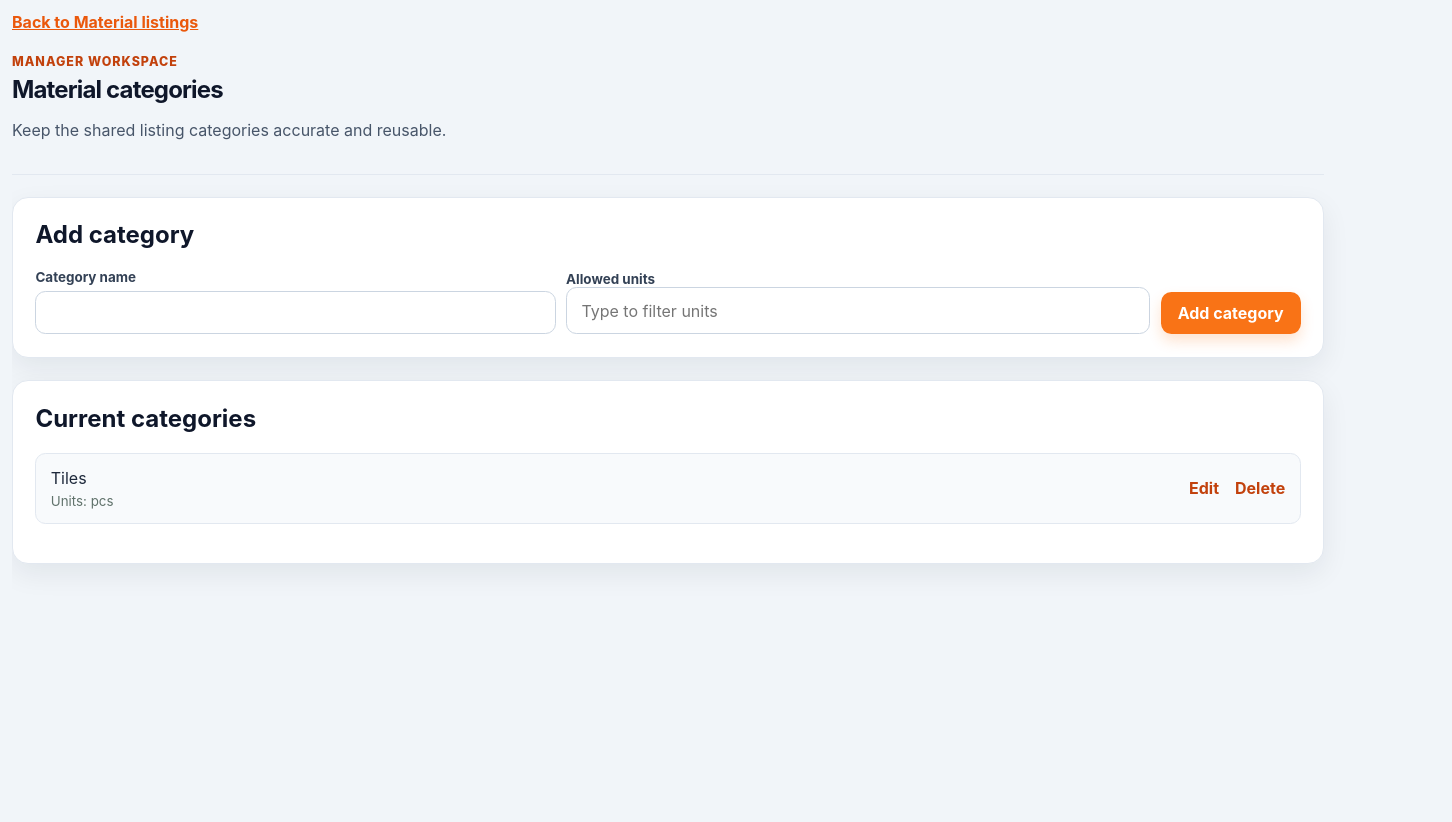
manager Material UI › shows server duplicate and in-use category messages without removing the category
The width and height of the screenshot is (1452, 822).
Click the button "Edit" at {"x": 1204, "y": 488}, box [1189,478,1219,498]
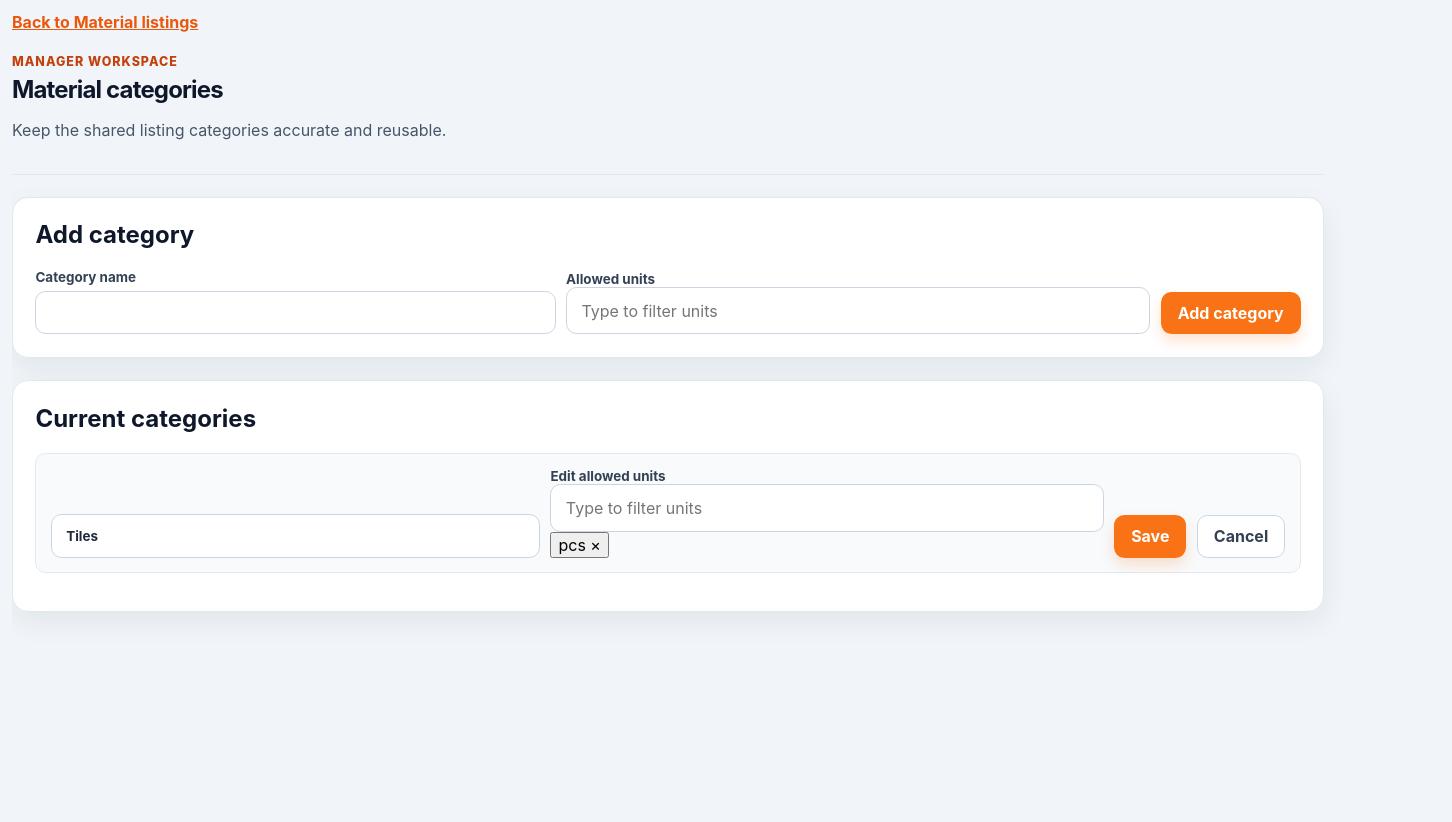
Click the button "Save" at {"x": 1150, "y": 536}, box [1114,515,1186,558]
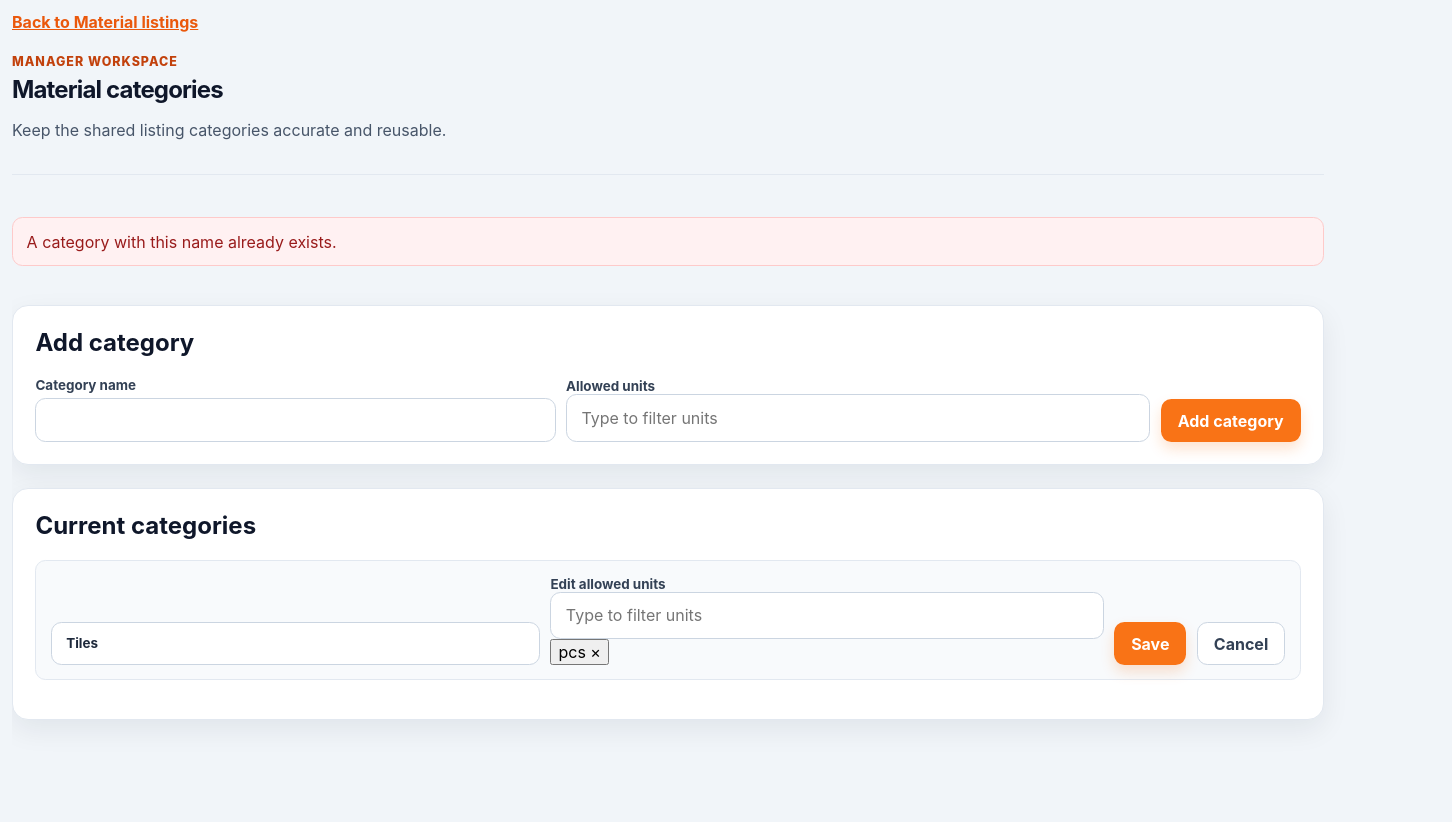
Check: the message reads "A category with this name already exists.", box [27,232,337,252]
Click the button "Cancel" at {"x": 1241, "y": 644}, box [1197,622,1285,665]
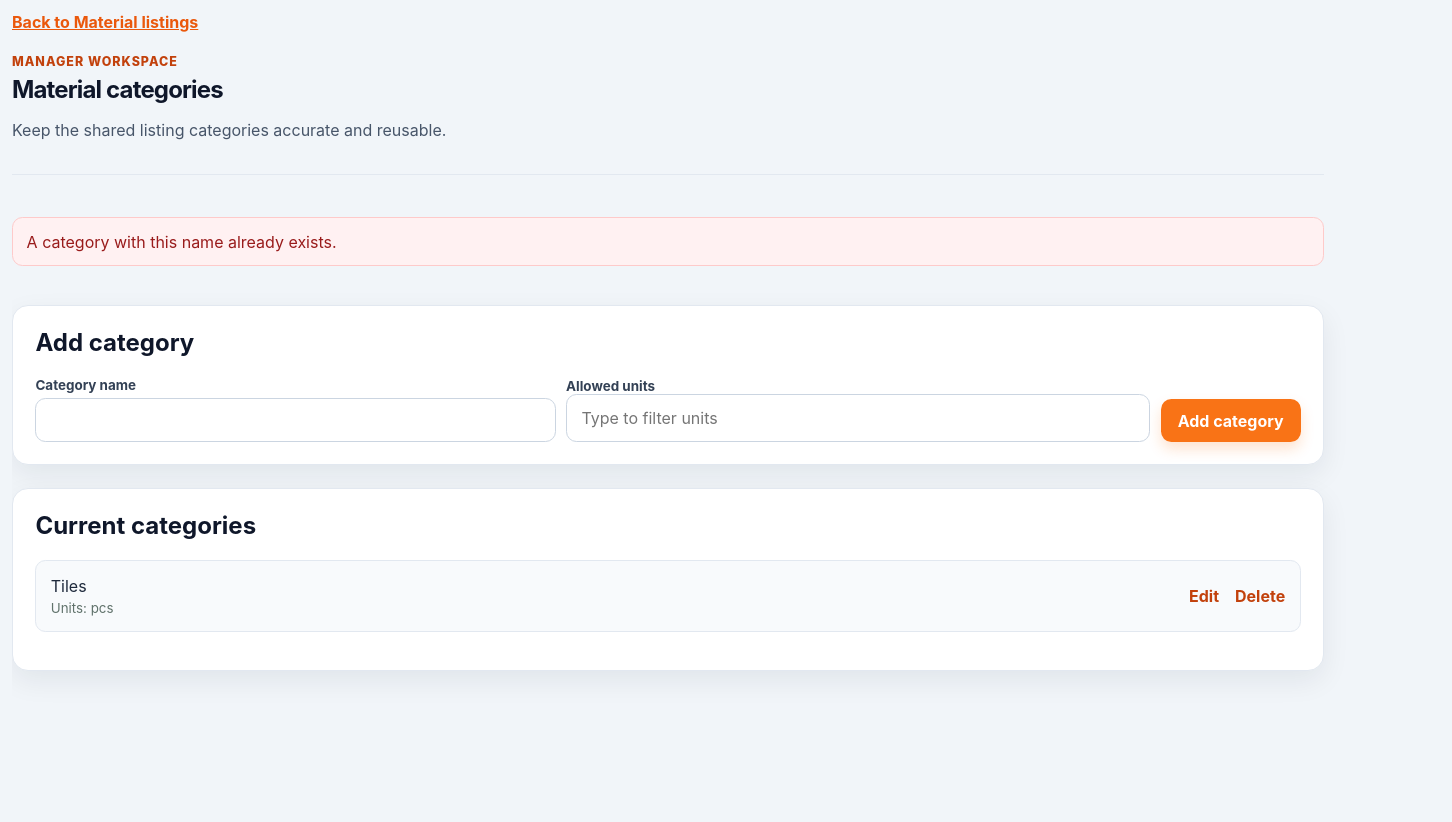
Click the button "Delete" at {"x": 1260, "y": 596}, box [1235,586,1285,606]
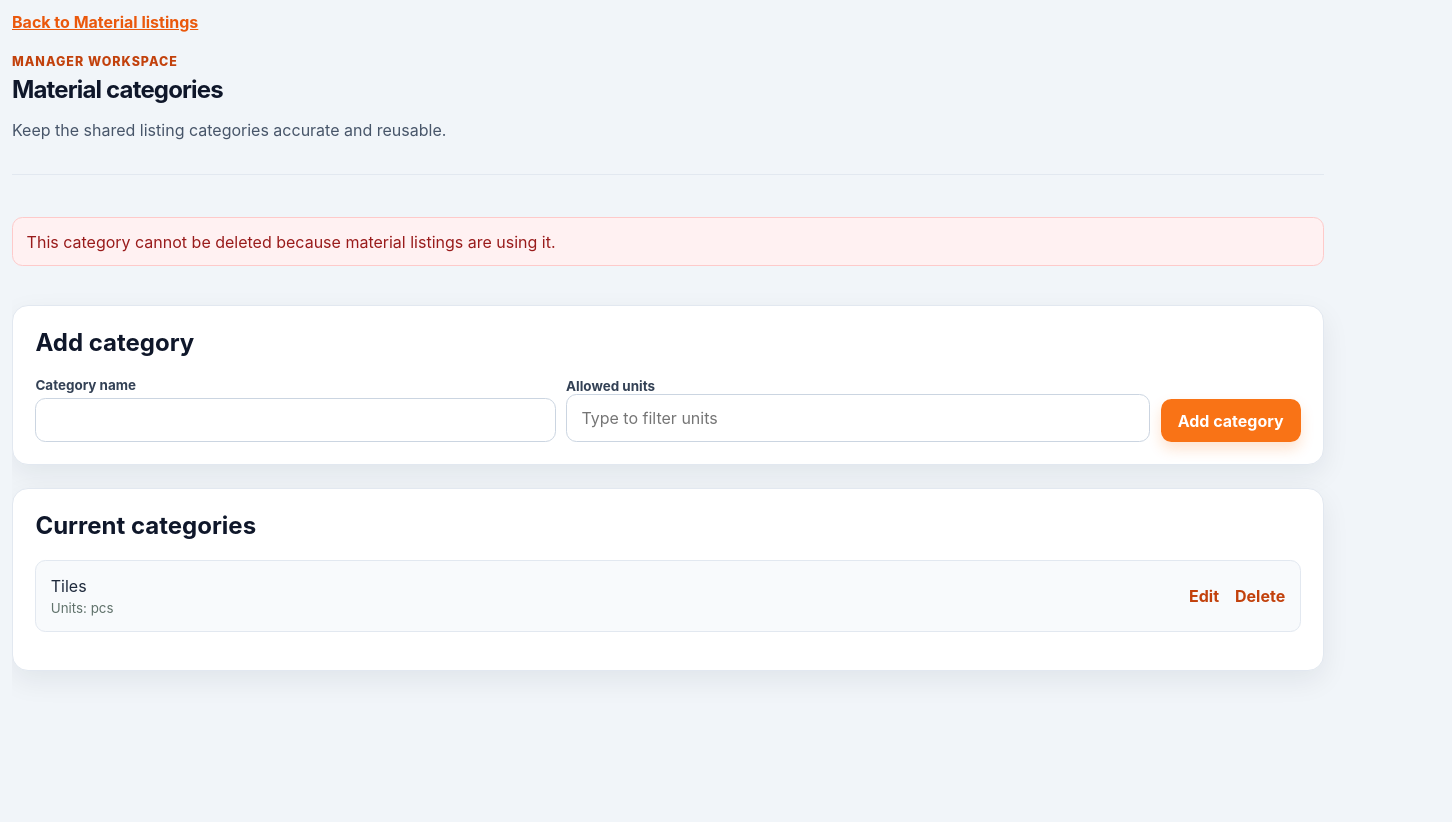
Check: the text "Tiles" is shown, box [51,576,87,596]
Check: the message reads "This category cannot be deleted because material listings are using it.", box [27,232,556,252]
